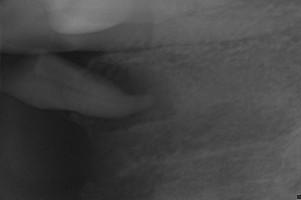Dental Caries: (82, 52, 171, 131)
